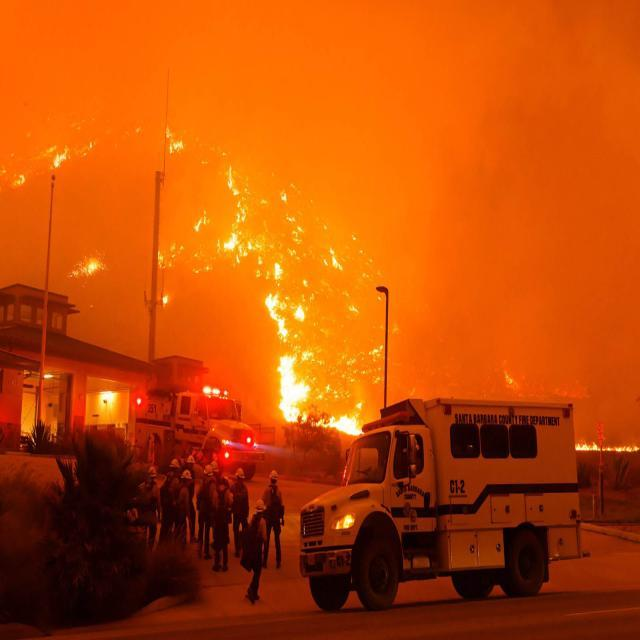Smoke: (262, 285, 306, 424), (216, 152, 249, 258), (66, 251, 103, 294), (321, 411, 369, 442), (575, 434, 640, 454), (164, 125, 189, 156), (51, 141, 76, 170), (10, 172, 38, 189)
